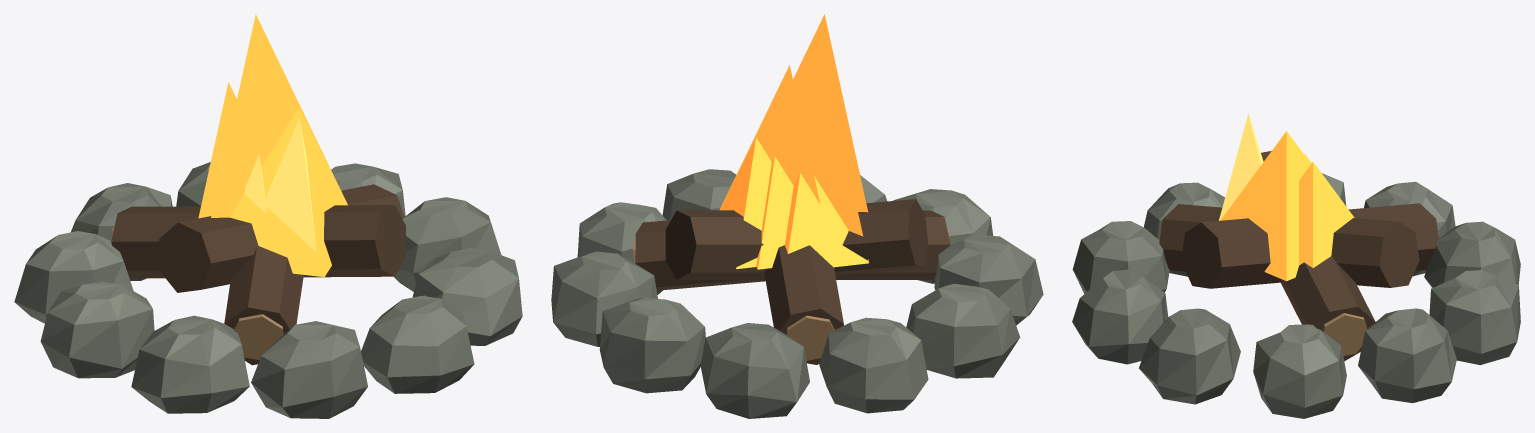
Rendered from campfire.glb.
3 renders of one model, left to right at view 1: azimuth 30°, elevation 25°; view 2: azimuth 150°, elevation 25°; view 3: azimuth 270°, elevation 25°, orthographic. The views are drawn at different scales.
Parts seen in each view (by area): view 1: geometry, fire; view 2: geometry, fire; view 3: geometry, fire.
Boxes of the visible parts, x1=… form: geometry: x1=14, y1=162, x2=522, y2=418; fire: x1=198, y1=14, x2=347, y2=277; geometry: x1=551, y1=169, x2=1043, y2=418; fire: x1=719, y1=14, x2=868, y2=269; geometry: x1=1072, y1=151, x2=1520, y2=418; fire: x1=1219, y1=113, x2=1354, y2=281.
Bounding box in the file's own units: 0.9053 × 0.62 × 0.8474.
